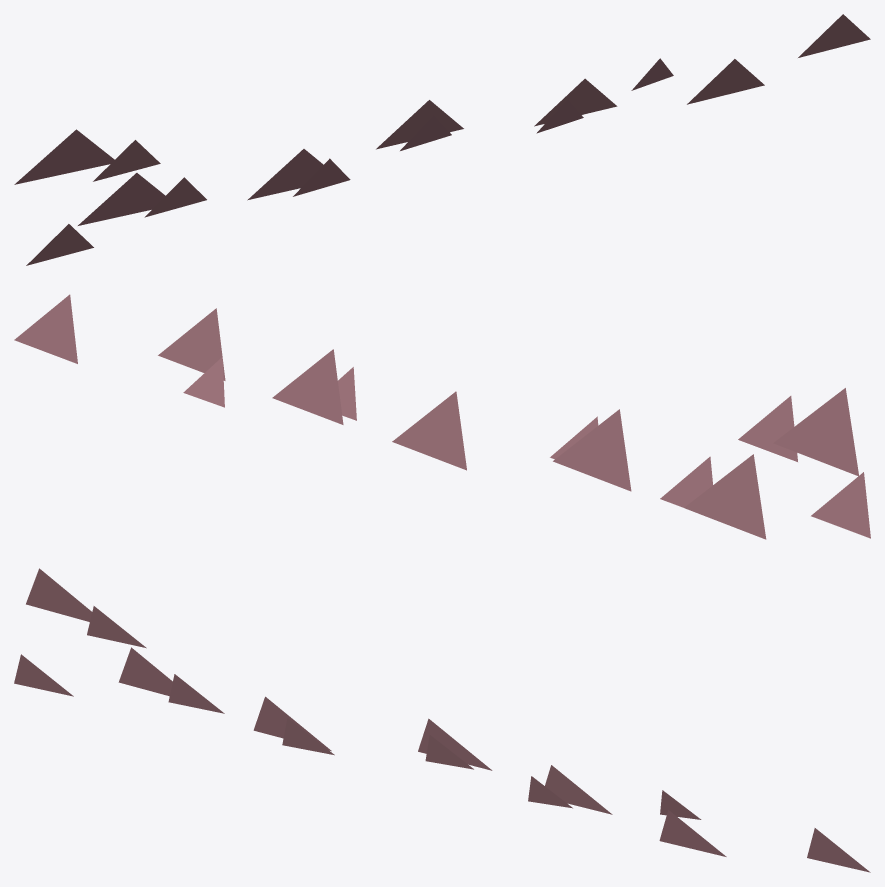
File: prop_bulk_gen_0052_lod2.gltf
3 views of the same model, one above another, from view 1: azimuth 30°, elevation 25°; view 2: azimuth 150°, elevation 25°; view 3: azimuth 330°, elevation 25° (orthographic). The views are drawn at different scales.
Visible parts, largest first — view 1: prop_bulk_gen_0052_lod2; view 2: prop_bulk_gen_0052_lod2; view 3: prop_bulk_gen_0052_lod2.
Part boxes in pixels (x1,y1,x2,y2): prop_bulk_gen_0052_lod2: [14, 14, 870, 265]; prop_bulk_gen_0052_lod2: [14, 294, 870, 539]; prop_bulk_gen_0052_lod2: [14, 568, 870, 872].
Size of the model in its own units: 0.748 by 0.1132 by 0.0776.
